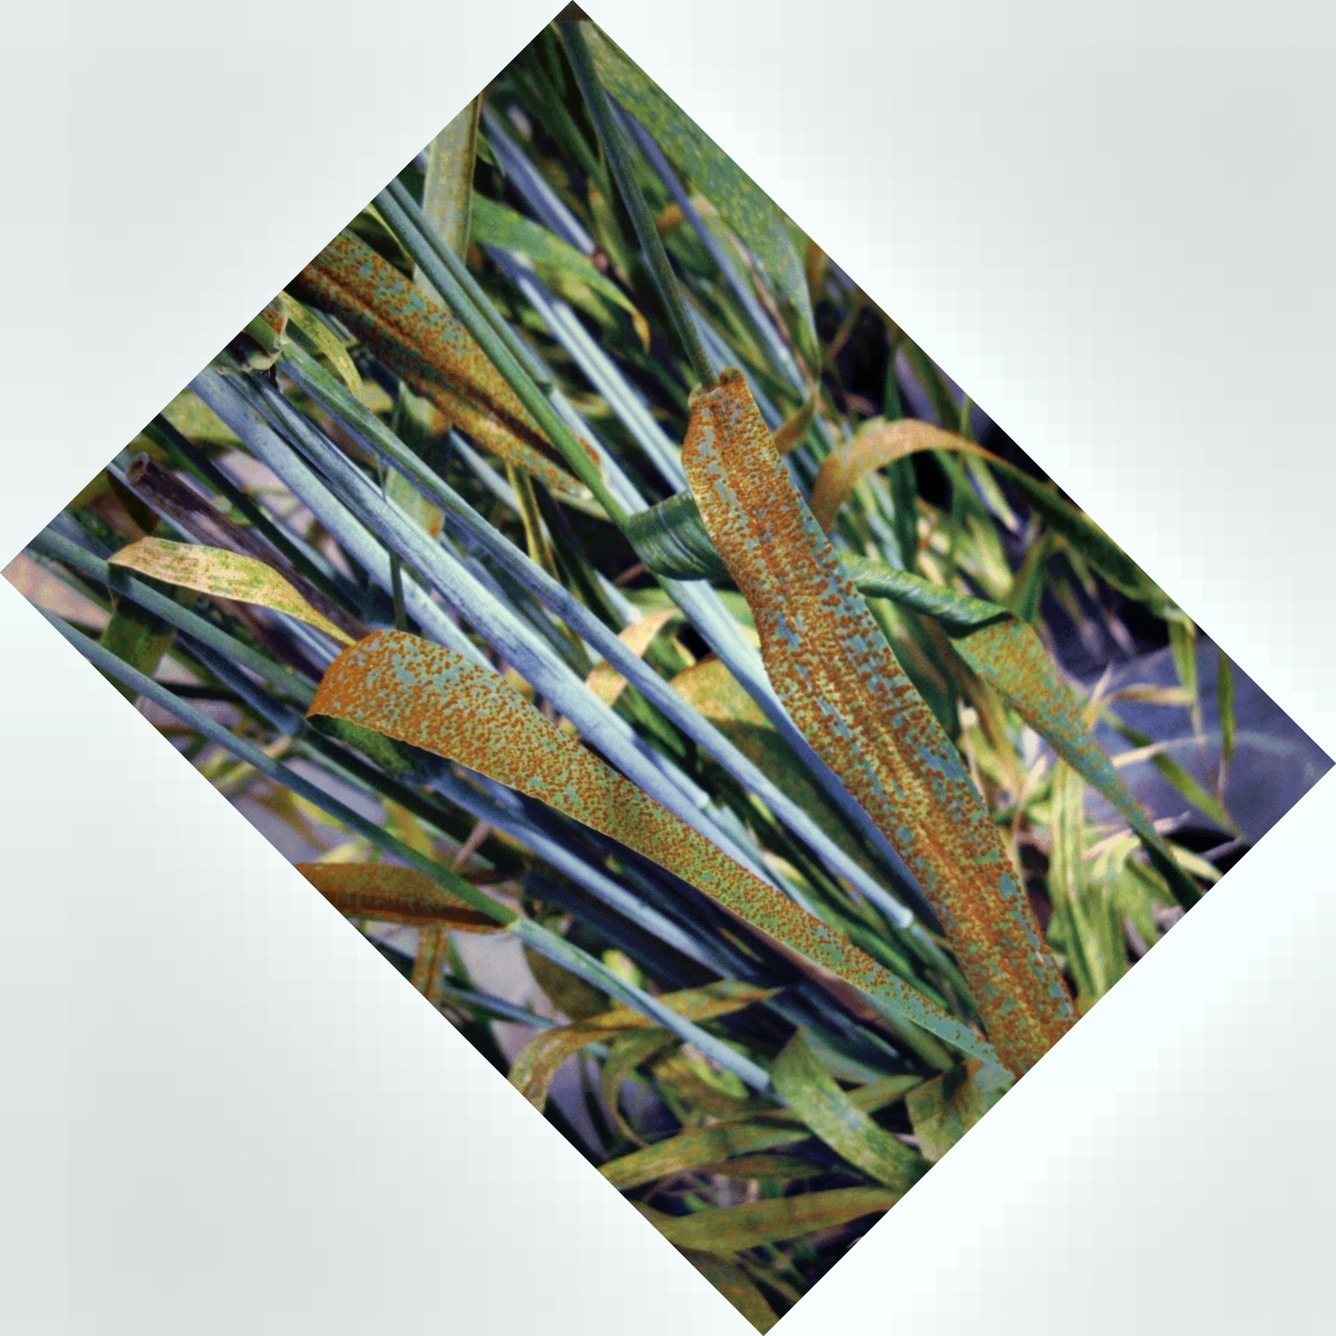Leaf Rust: (670, 422, 1071, 985)
